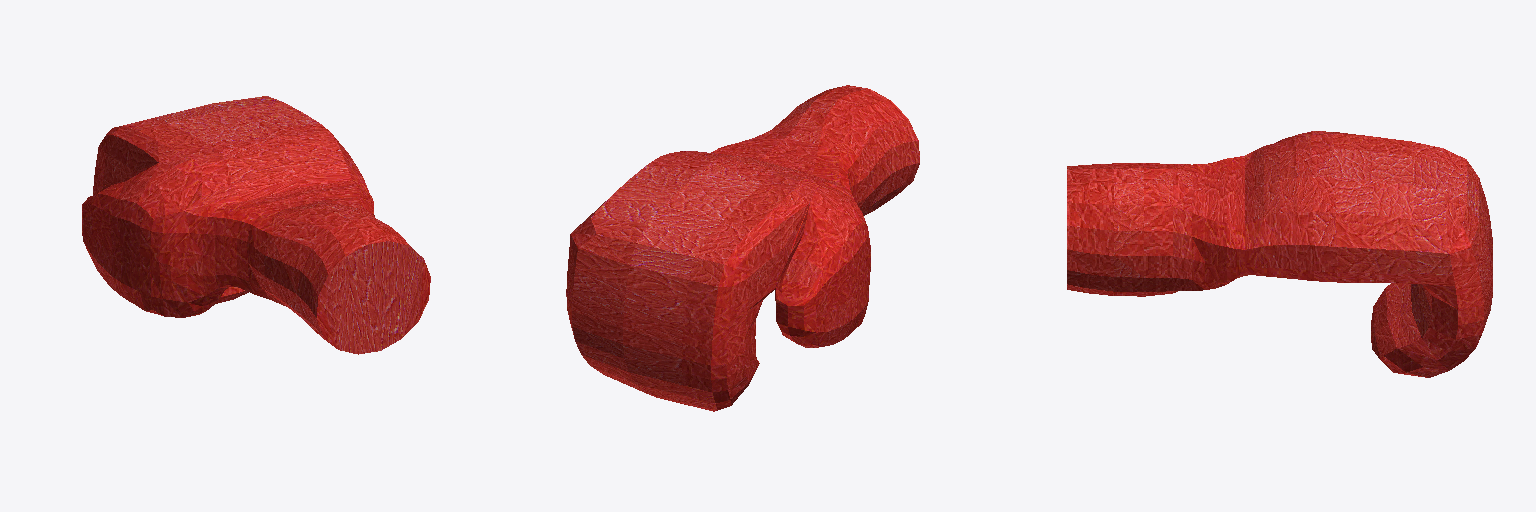
The picture shows the model from 3 angles: view 1: azimuth 30°, elevation 25°; view 2: azimuth 150°, elevation 25°; view 3: azimuth 270°, elevation 25°; orthographic projection.
Visible parts, largest first — view 1: mmGroup0; view 2: mmGroup0; view 3: mmGroup0.
Boxes of the visible parts, box(x1,y1,x2,y2) form: mmGroup0: box(82, 96, 430, 354); mmGroup0: box(566, 85, 919, 411); mmGroup0: box(1067, 131, 1492, 377).
Size of the model in its own units: 5.27 by 4.36 by 8.63.
Materials: 1 (1 with a texture image).